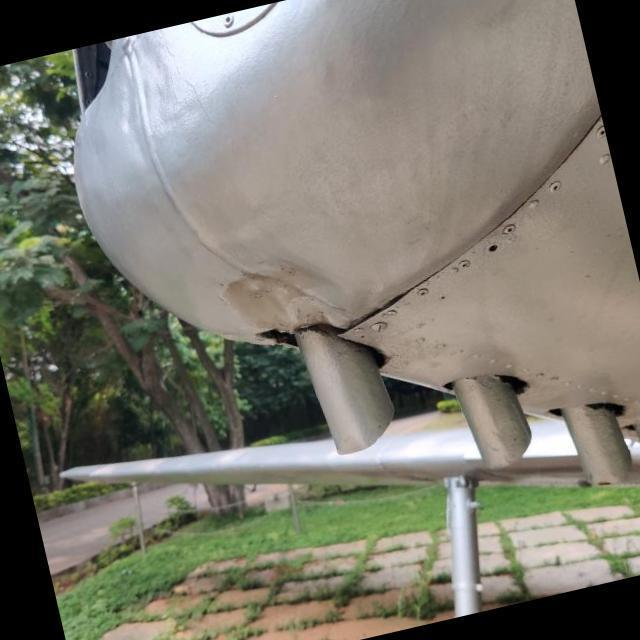Dent: (200, 221, 376, 374)
